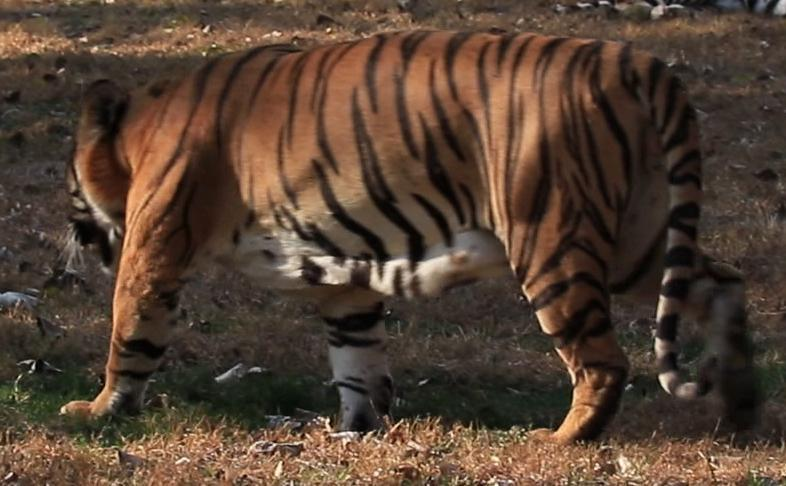tiger: (67, 30, 758, 442)
